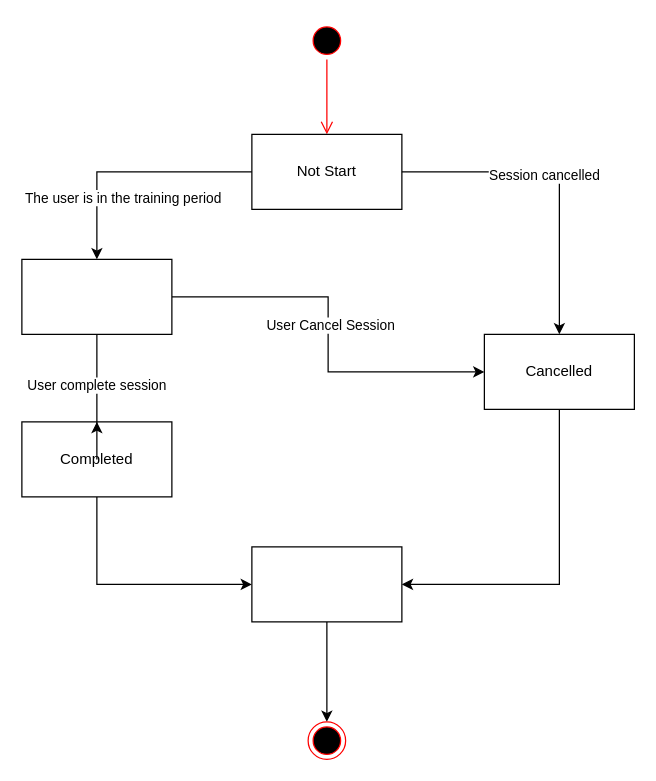
The diagram is 656 pixels wide and 781 high, and some of its shapes have lost their labels. The shapes that lost their labels are listed below. From the top down, each one's centre as x and y in pixels, then its label:
At point 96,296: "In progress".
At point 326,584: "Closed".
